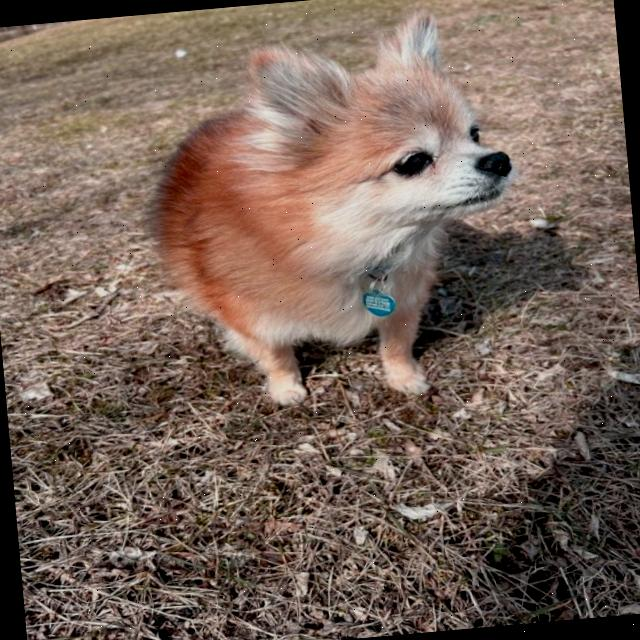pomeranian_dog: (208, 11, 526, 260)
